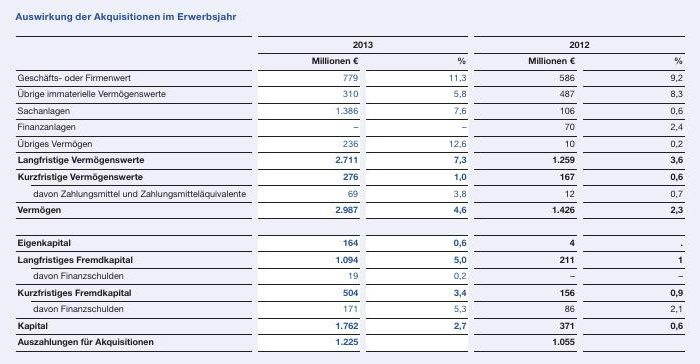table: (0, 0, 700, 364)
